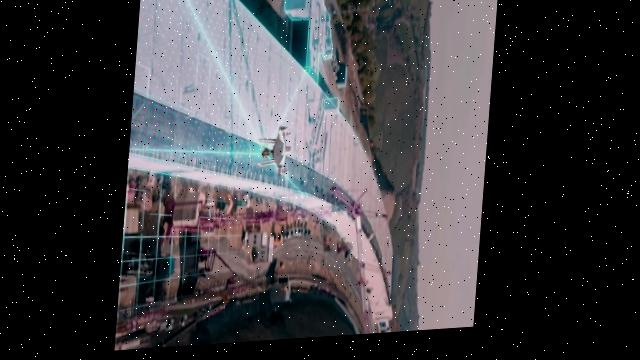drone: (258, 126, 296, 184)
